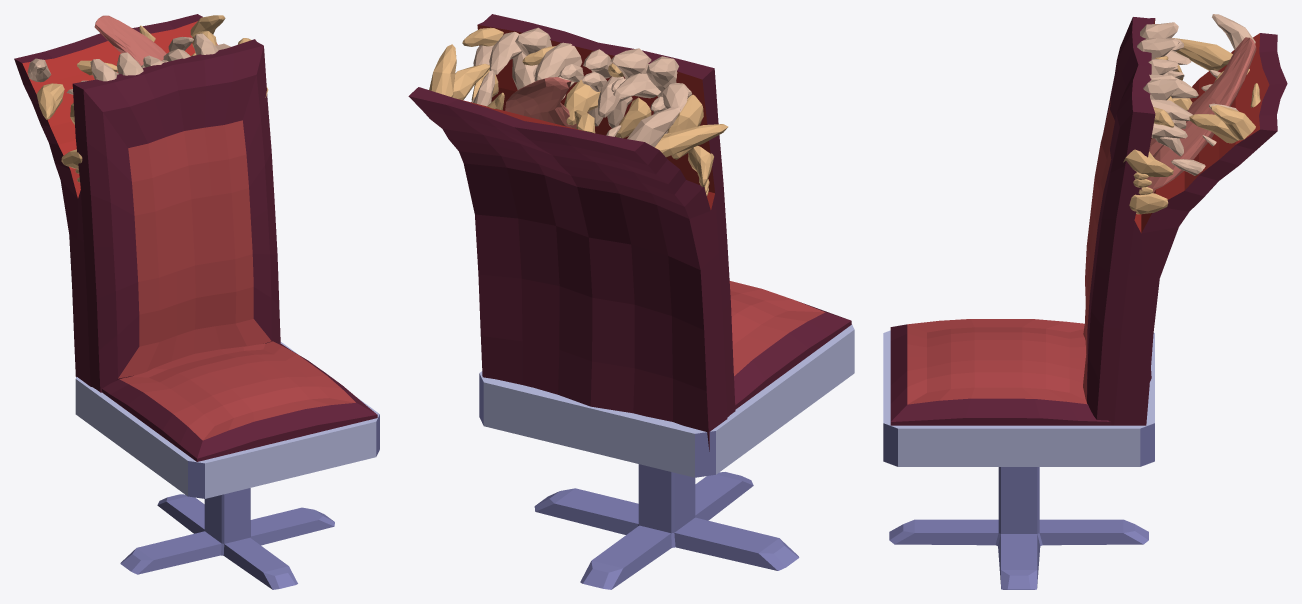
File: monsty_chair.fbx
3 views of the same model, side by side, from view 1: azimuth 30°, elevation 25°; view 2: azimuth 150°, elevation 25°; view 3: azimuth 270°, elevation 25° (orthographic). The views are drawn at different scales.
Parts seen in each view (by area): view 1: Cube.001, Cube.002, Cube, bottom teeth, teeth top, tongue; view 2: Cube.001, Cube.002, teeth top, Cube, bottom teeth, tongue; view 3: Cube.001, Cube.002, Cube, teeth top, bottom teeth, tongue.
Boxes of the visible parts, x1,y1,x2,y2 form: Cube.001: (14,14,280,392); Cube.002: (75,342,379,589); Cube: (102,341,377,461); bottom teeth: (27,15,225,119); teeth top: (61,33,268,182); tongue: (94,15,166,65); Cube.001: (408,14,735,451); Cube.002: (479,324,854,589); teeth top: (462,27,713,195); Cube: (729,281,851,409); bottom teeth: (429,44,728,157); tongue: (505,77,576,128); Cube.001: (1083,17,1287,425); Cube.002: (883,330,1154,589); Cube: (890,319,1111,425); teeth top: (1123,22,1198,214); bottom teeth: (1171,14,1260,175); tongue: (1146,37,1256,193).
Size of the model in its own units: 580 by 1158 by 866.
